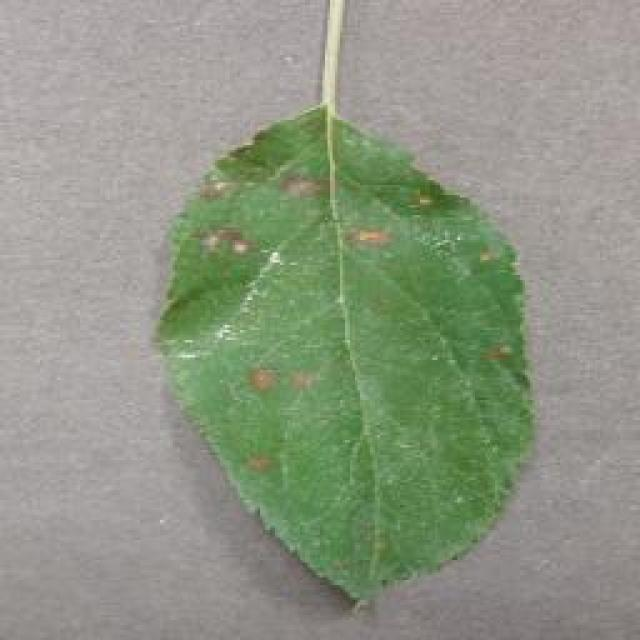apple cedar apple rust: (152, 98, 538, 610)
